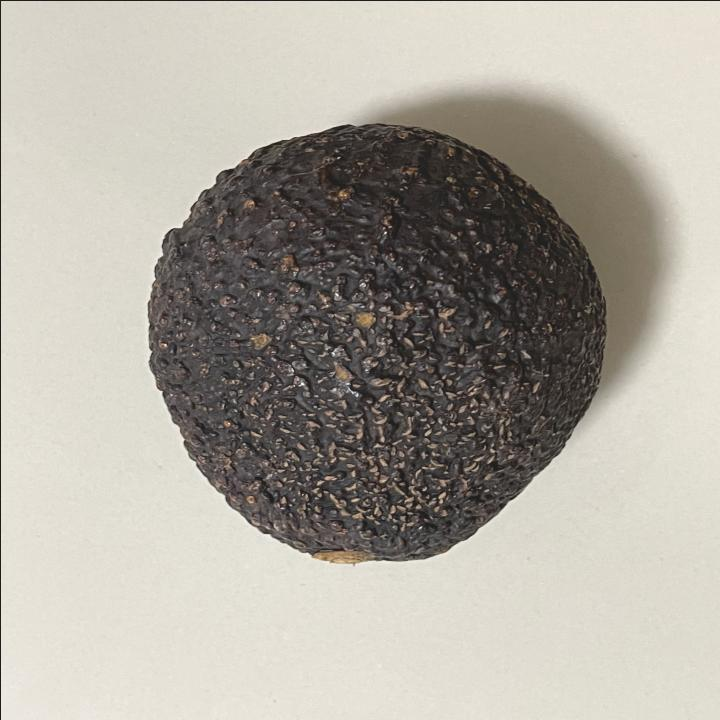Level3: (130, 115, 620, 574)
